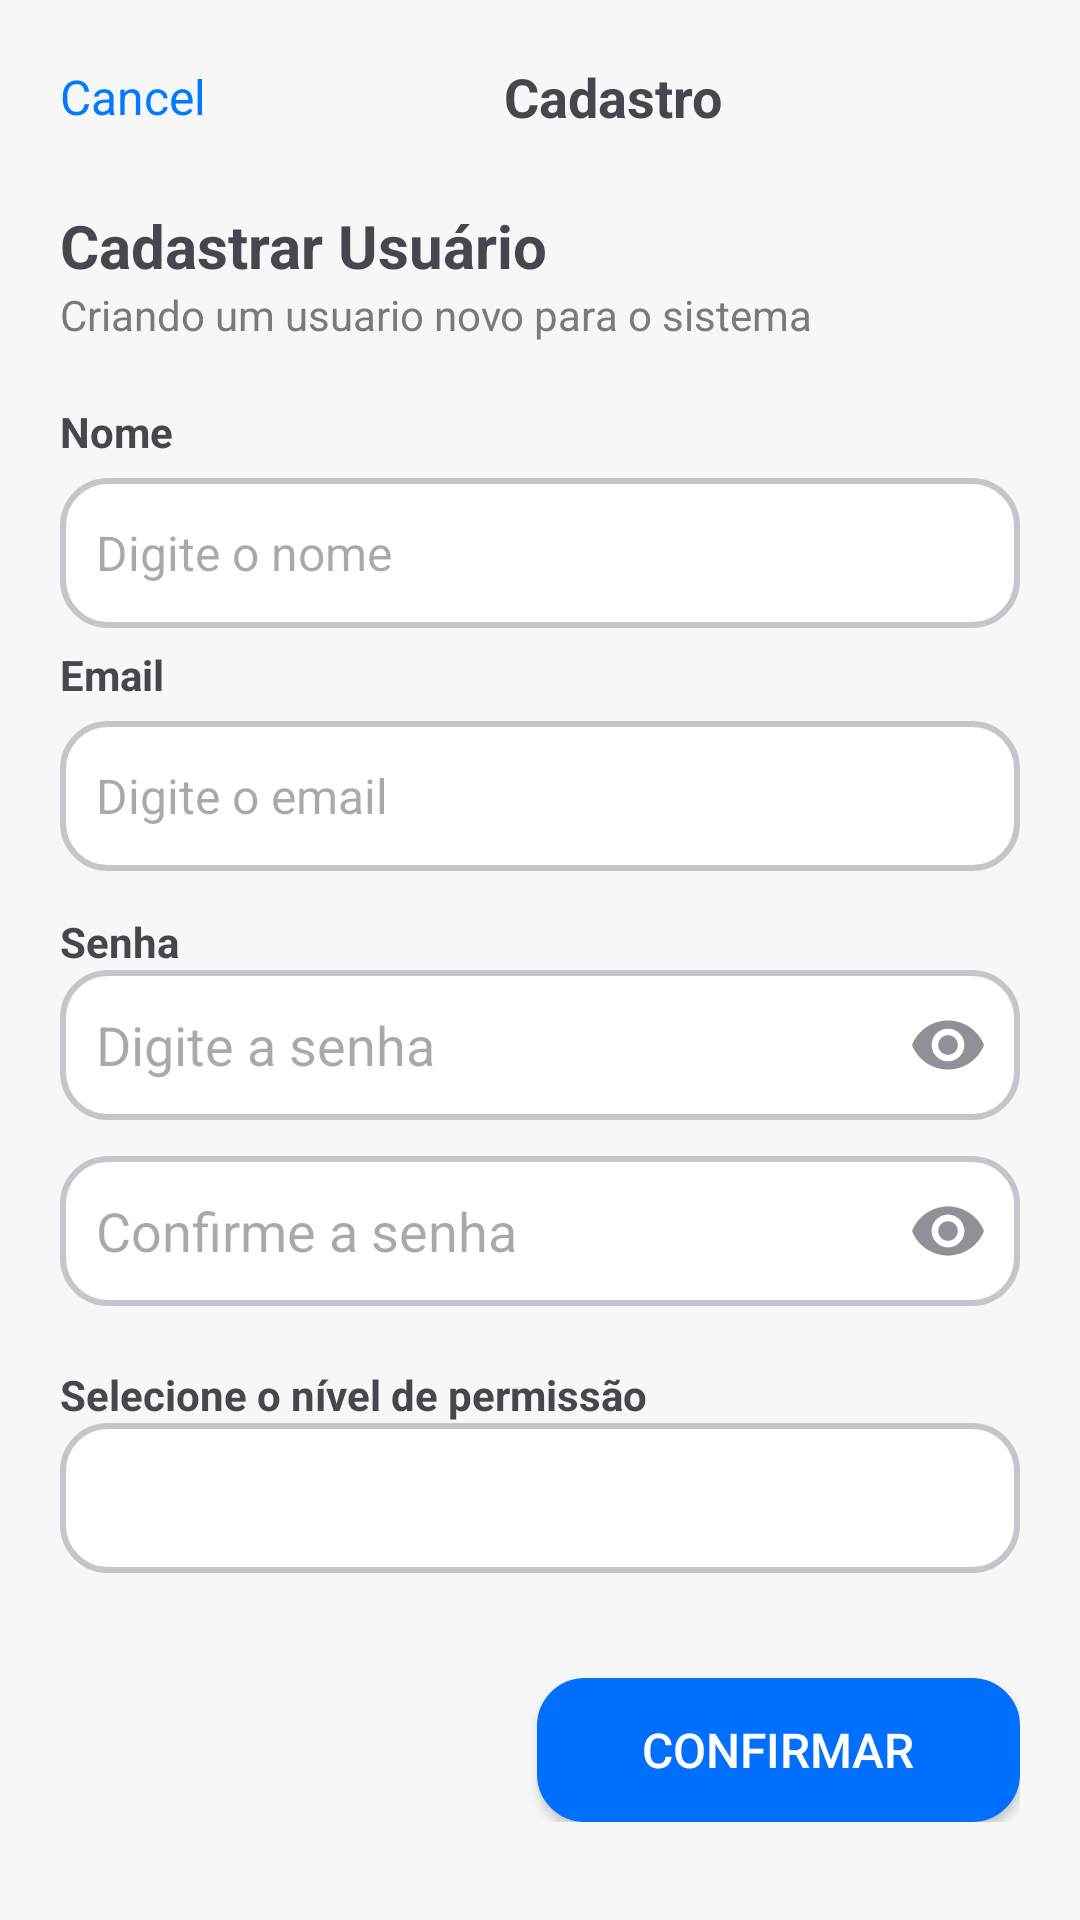

Icons on this 1080 x 1920 Android screen, each with its box as (x1, y1, x2, y2):
eyees on: (912, 1020, 984, 1070), (912, 1206, 984, 1256)
